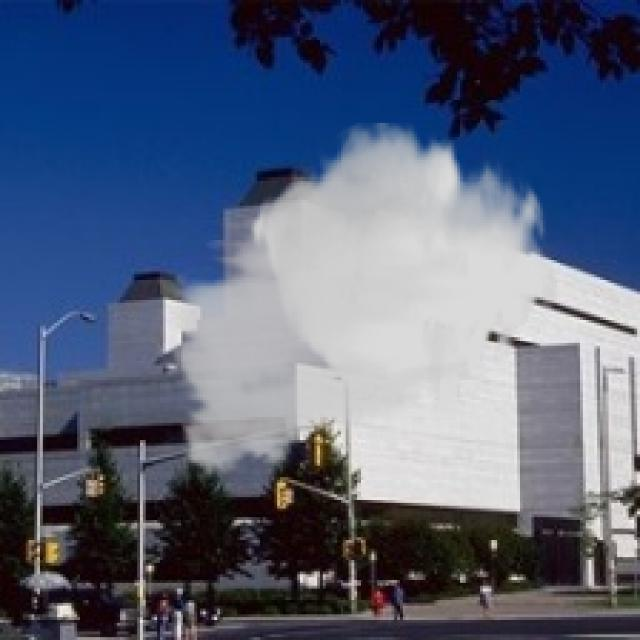smoke: (157, 123, 560, 488)
